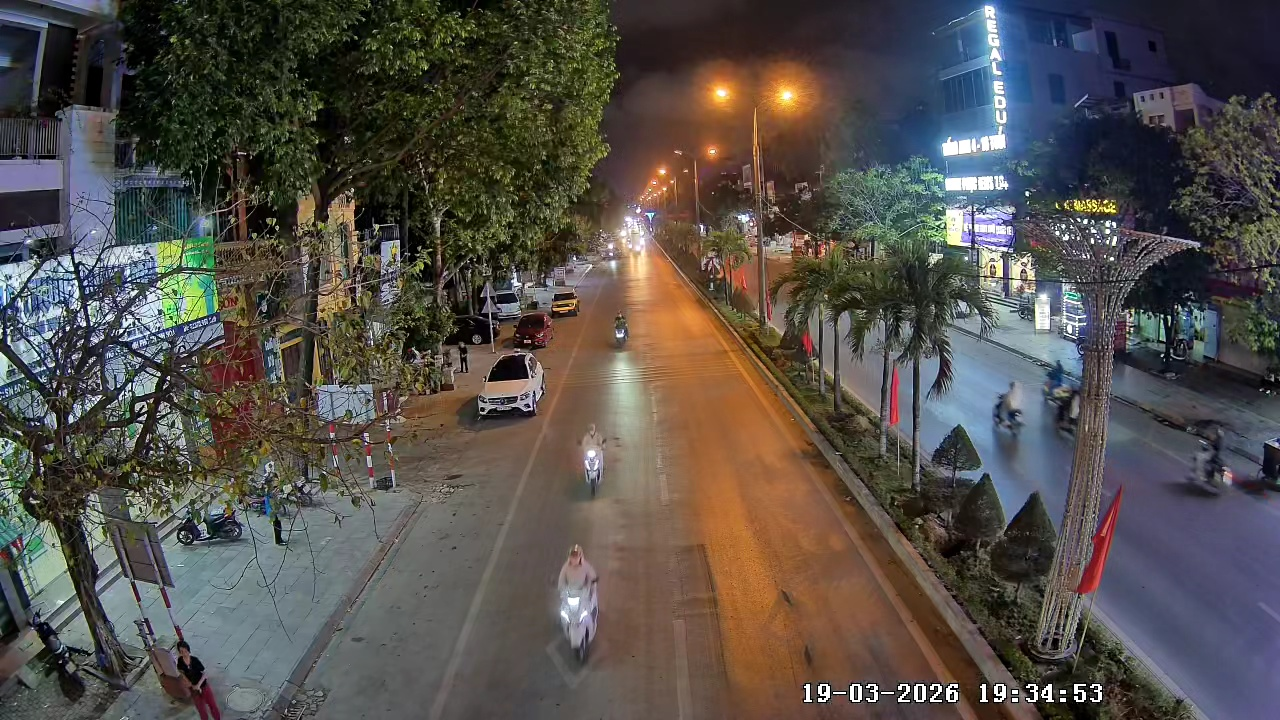car: (476, 349, 548, 418), (513, 310, 551, 349), (550, 283, 581, 317)
motorbike: (551, 542, 606, 666), (577, 422, 609, 498), (611, 309, 630, 349)
